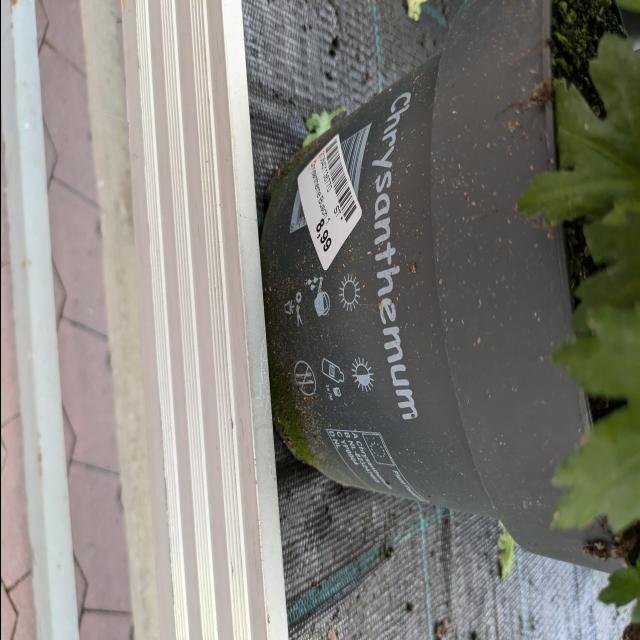dungen: (312, 352, 349, 412)
halb sonnig schattig: (348, 356, 375, 392)
sonnig: (334, 273, 364, 315)
viel giesen: (302, 270, 330, 318)
